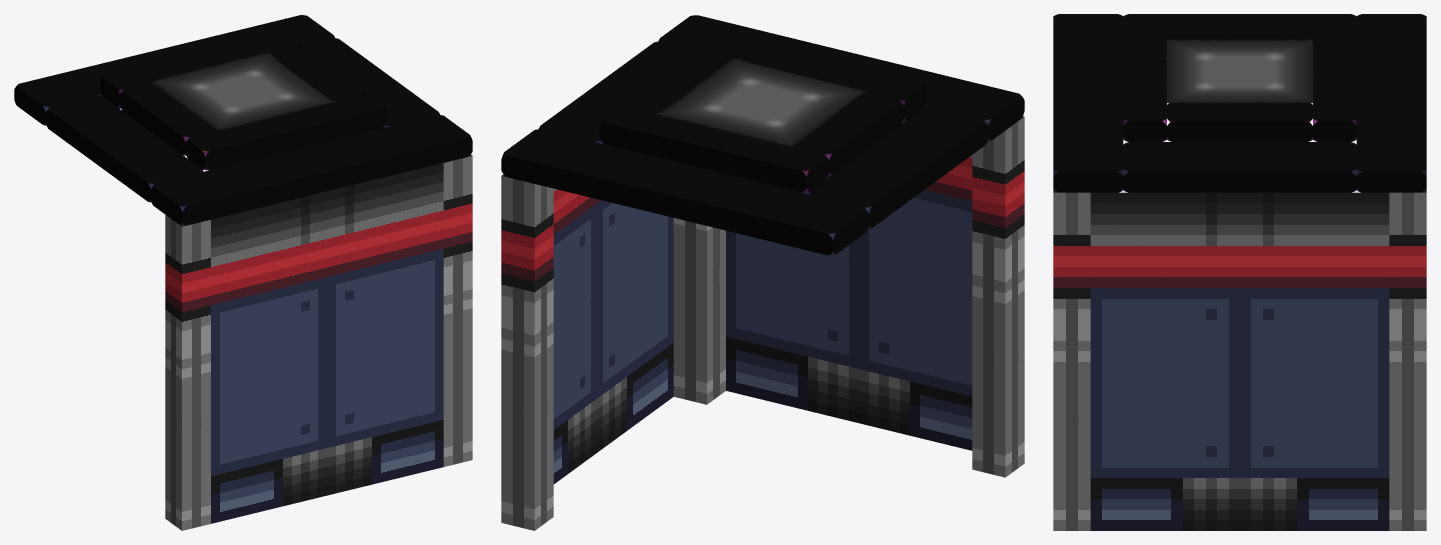
3 views of the same model, side by side, from view 1: azimuth 30°, elevation 25°; view 2: azimuth 150°, elevation 25°; view 3: azimuth 270°, elevation 25° (orthographic). The views are drawn at different scales.
Visible parts, largest first — view 1: S, Roof, SW, NW; view 2: Roof, S, E, SE, SW, NW; view 3: E, Roof, SE, NW.
Part boxes in pixels (box(x1,y1,x2,y2)): S: box(211, 163, 443, 523); Roof: box(14, 15, 472, 225); SW: box(165, 211, 210, 530); NW: box(443, 154, 472, 466); Roof: box(501, 15, 1024, 255); S: box(726, 122, 972, 450); E: box(553, 188, 673, 484); SE: box(501, 174, 553, 530); SW: box(972, 116, 1024, 477); NW: box(673, 218, 725, 404); E: box(1090, 192, 1389, 530); Roof: box(1053, 14, 1426, 192); SE: box(1389, 189, 1426, 530); NW: box(1053, 189, 1090, 530).
Size of the model in its own units: 2 by 2.25 by 2.
3 materials, 3 textured.
